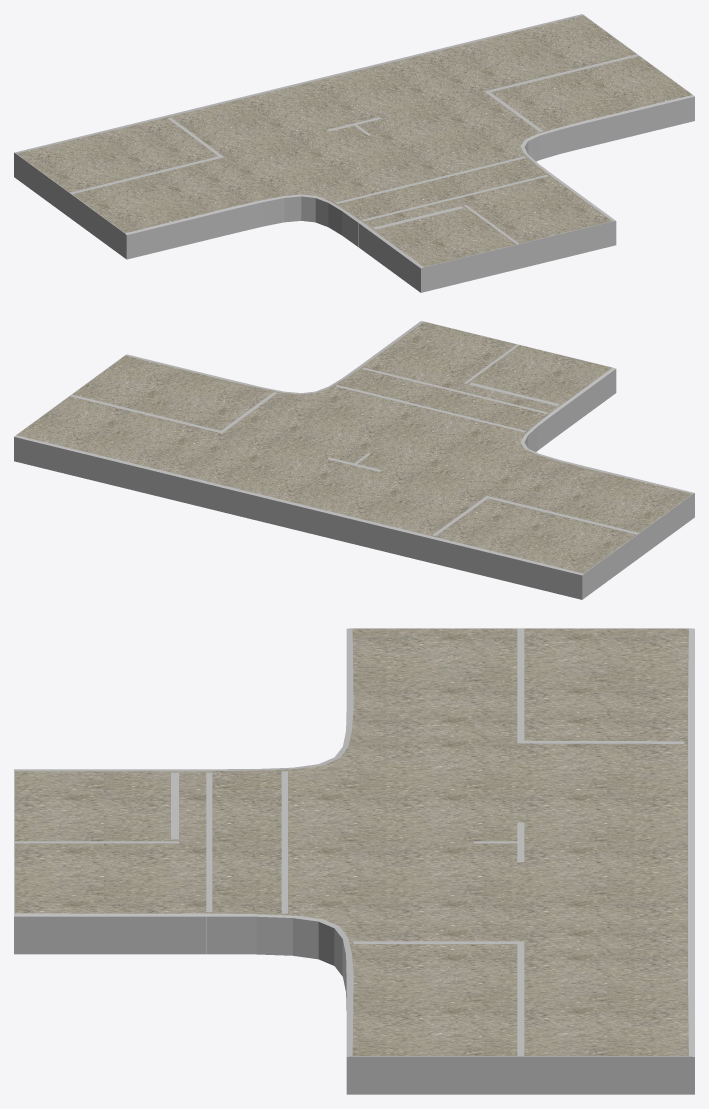
File: road_01_t02.fbx
3 views of the same model, one above another, from view 1: azimuth 30°, elevation 25°; view 2: azimuth 150°, elevation 25°; view 3: azimuth 270°, elevation 25° (orthographic). The views are drawn at different scales.
Visible parts, largest first — view 1: road_01_t02; view 2: road_01_t02; view 3: road_01_t02.
Part boxes in pixels (box(x1,y1,x2,y2)): road_01_t02: box(14, 14, 694, 292); road_01_t02: box(14, 321, 694, 599); road_01_t02: box(14, 628, 694, 1094).
Bounding box in the file's own units: 48 × 2 × 32.25.
